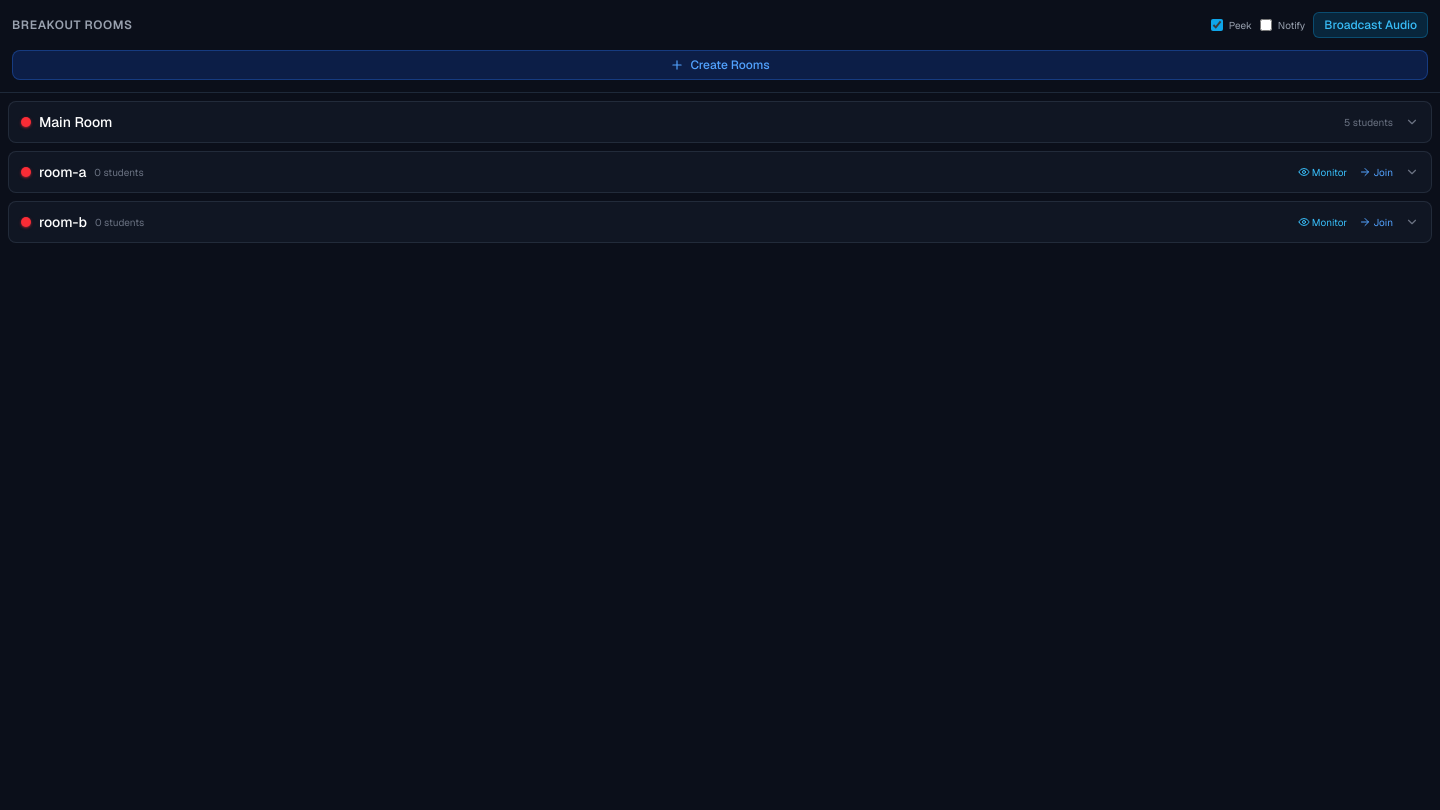
Test case: BreakoutTab — Modal Integration (Manual Allocation) › opening modal, selecting manual mode, and assigning students works
Open modal
Click the button with test id "create-rooms-btn": x=720, y=65 [12, 50, 1428, 80]
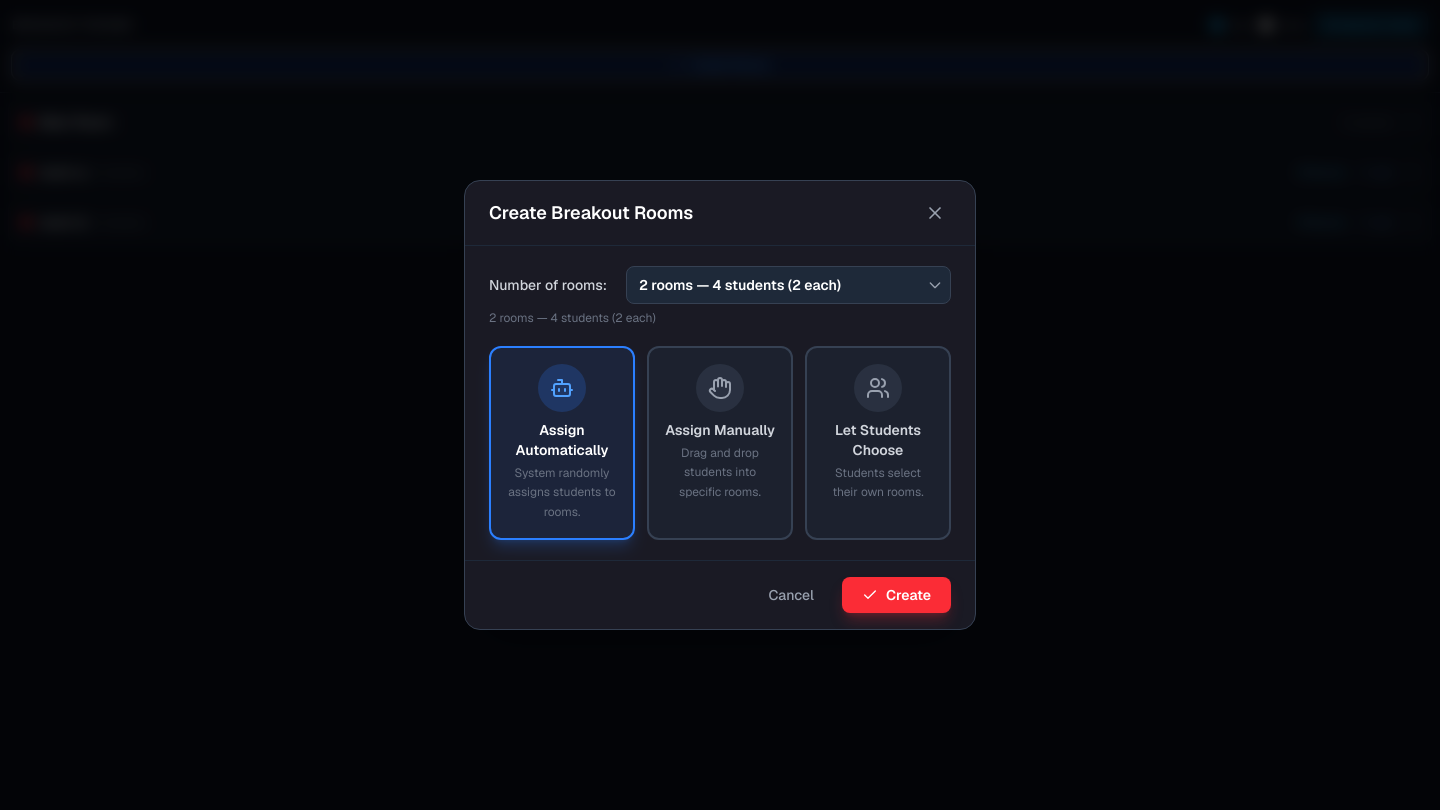
Now the element with test id "create-breakout-modal" is shown
Select manual mode
Click the button with test id "mode-manual": x=720, y=443 [647, 346, 793, 540]
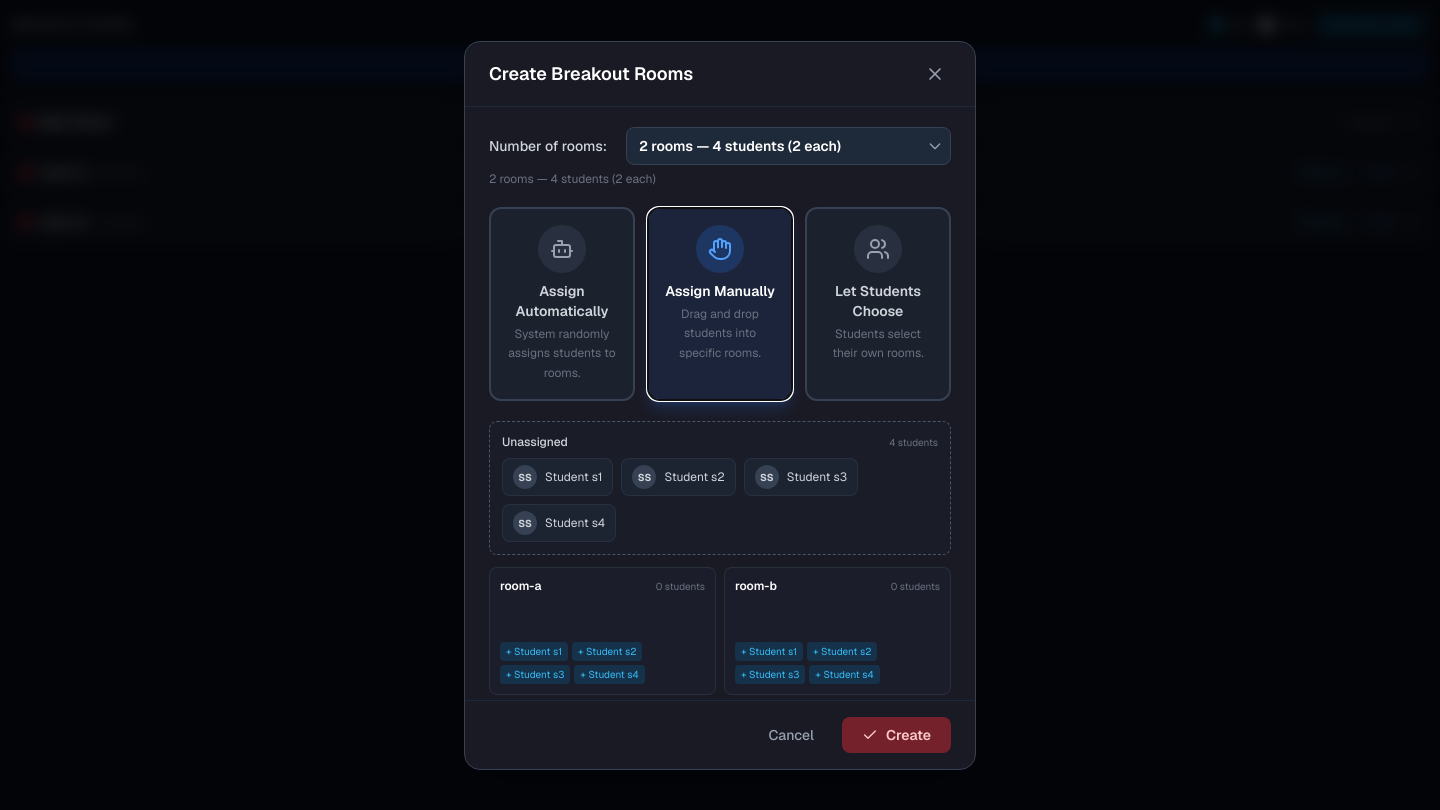
Now the element with test id "manual-unassigned-pool" is shown, box [489, 421, 951, 555]
Now the button with test id "^manual-assign-btn-" is shown
Click the button with test id "^manual-assign-btn-": x=534, y=652 [500, 642, 568, 661]
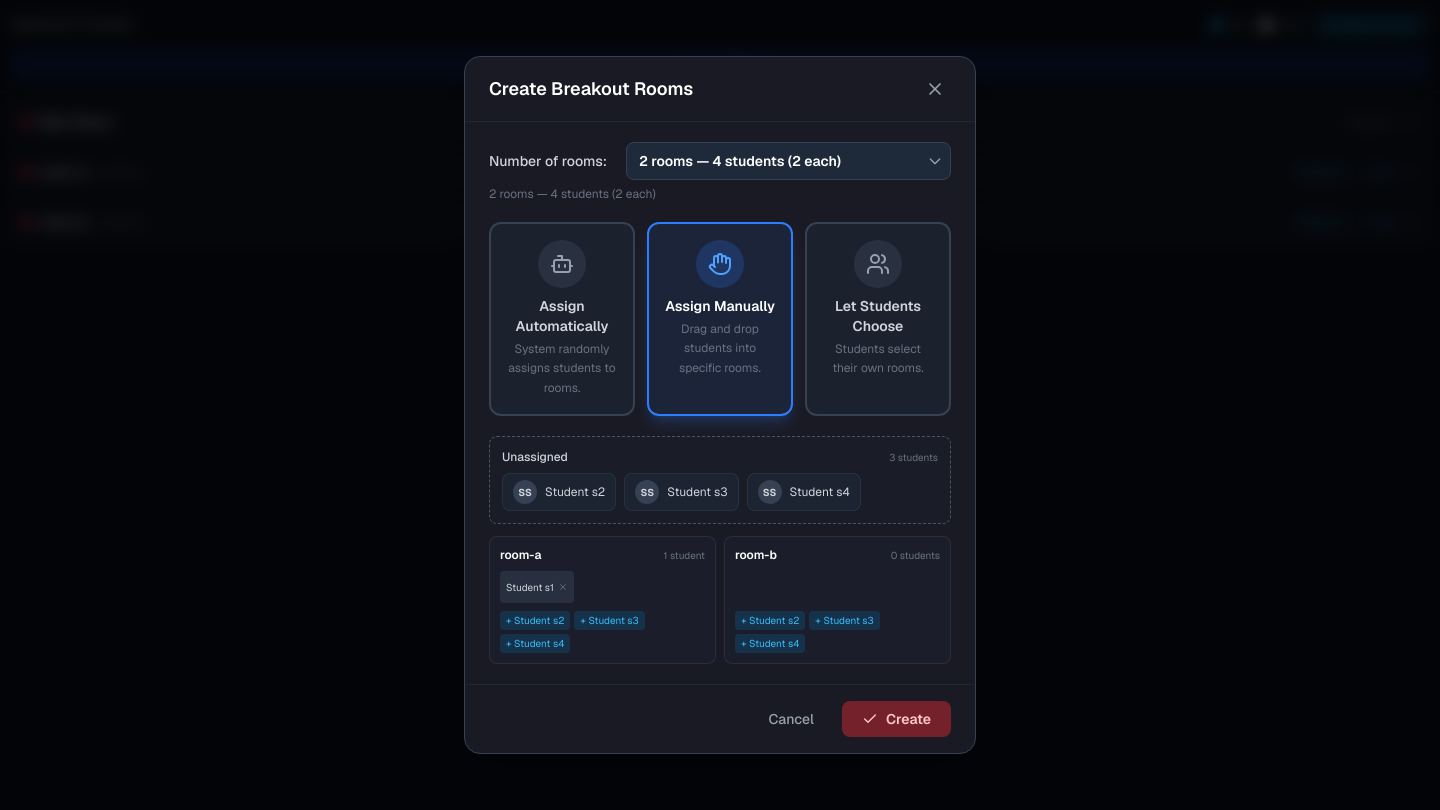
Now the element with test id "manual-unassigned-pool" no longer shows "4 students"
